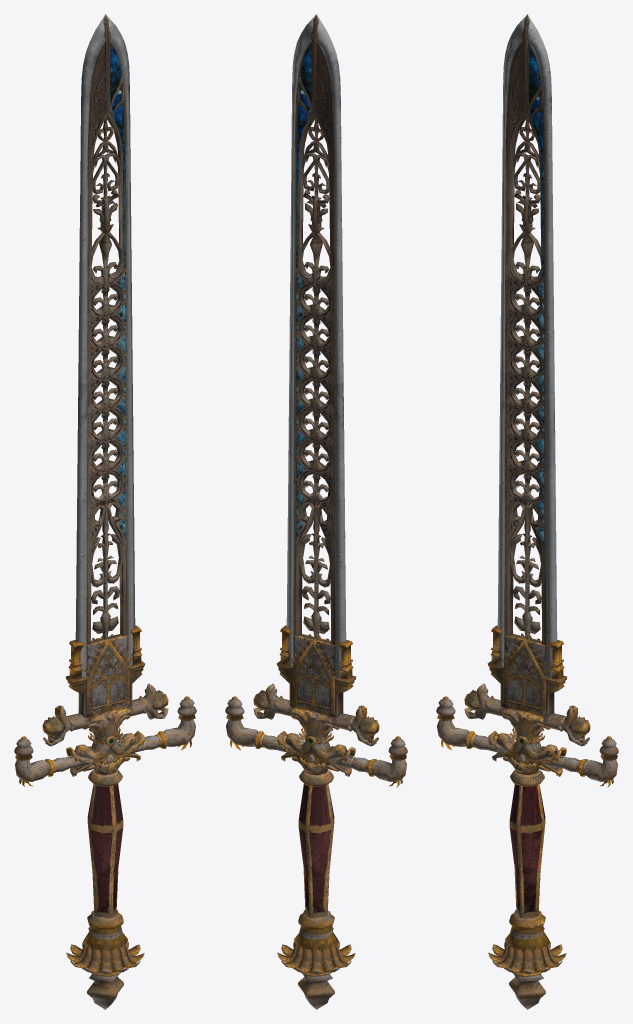
Rendered from wa_pd_sonaf.glb.
3 views of the same model, side by side, from view 1: azimuth 30°, elevation 25°; view 2: azimuth 150°, elevation 25°; view 3: azimuth 330°, elevation 25° (orthographic).
Visible parts, largest first — view 1: SwordofNightandFlame; view 2: SwordofNightandFlame; view 3: SwordofNightandFlame.
Part boxes in pixels (x1=…): SwordofNightandFlame: x1=14, y1=14, x2=196, y2=1009; SwordofNightandFlame: x1=225, y1=14, x2=407, y2=1009; SwordofNightandFlame: x1=436, y1=14, x2=618, y2=1009.
Size of the model in its own units: 18.78 by 99.05 by 7.1.
1 material, 1 textured.
